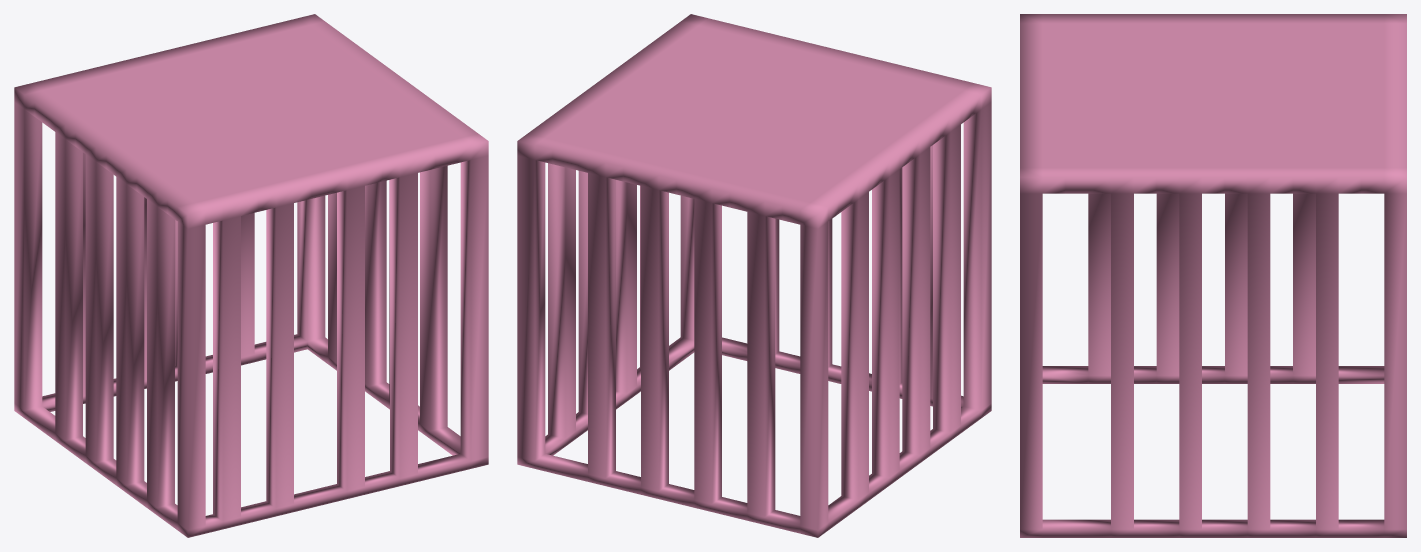
The model's file is CageforBadBots.fbx.
3 views of the same model, side by side, from view 1: azimuth 30°, elevation 25°; view 2: azimuth 150°, elevation 25°; view 3: azimuth 270°, elevation 25° (orthographic). The views are drawn at different scales.
Visible parts, largest first — view 1: CageForBadBots:Box001; view 2: CageForBadBots:Box001; view 3: CageForBadBots:Box001.
Part boxes in pixels (x1,y1,x2,y2): CageForBadBots:Box001: [14, 14, 488, 537]; CageForBadBots:Box001: [517, 14, 991, 537]; CageForBadBots:Box001: [1020, 14, 1406, 537].
Bounding box in the file's own units: 20 × 20.56 × 20.
